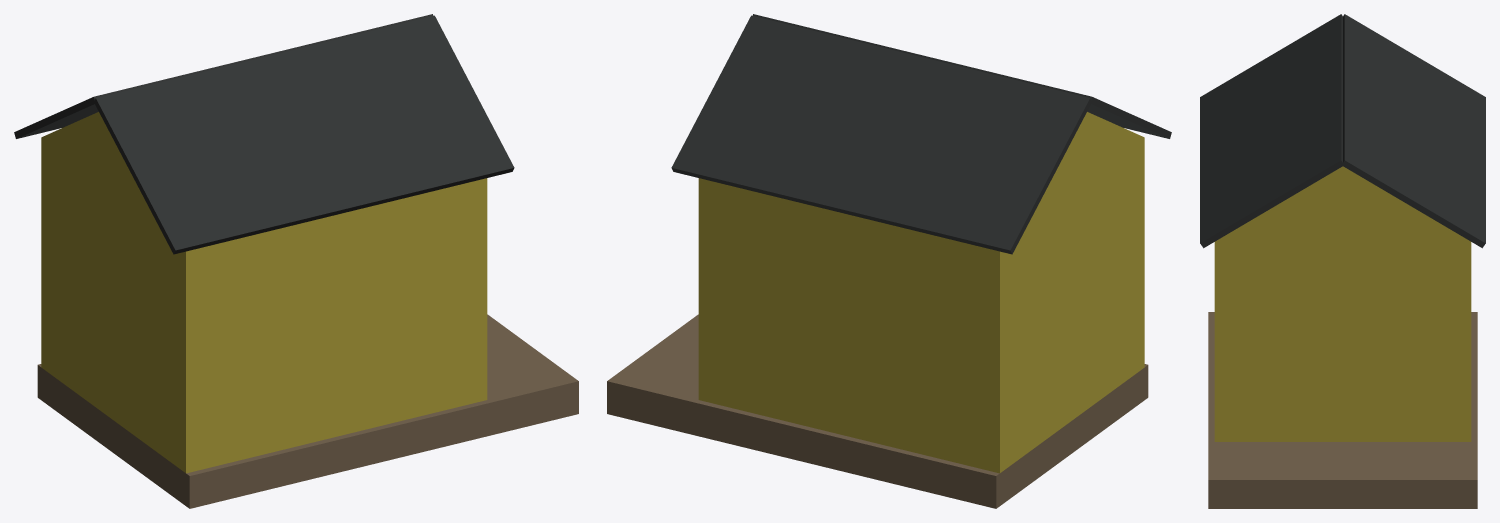
File: SM_Prop_coast_beachhut_1_LOD2.glb
3 renders of one model, left to right at view 1: azimuth 30°, elevation 25°; view 2: azimuth 150°, elevation 25°; view 3: azimuth 270°, elevation 25°, orthographic. The views are drawn at different scales.
Parts seen in each view (by area): view 1: SM_Prop_coast_beachhut_1_LOD2; view 2: SM_Prop_coast_beachhut_1_LOD2; view 3: SM_Prop_coast_beachhut_1_LOD2.
Part boxes in pixels (x1,y1,x2,y2): SM_Prop_coast_beachhut_1_LOD2: (14,14,578,508); SM_Prop_coast_beachhut_1_LOD2: (607,14,1171,508); SM_Prop_coast_beachhut_1_LOD2: (1200,14,1485,508).
Bounding box in the file's own units: 3.25 × 2.74 × 2.23.
